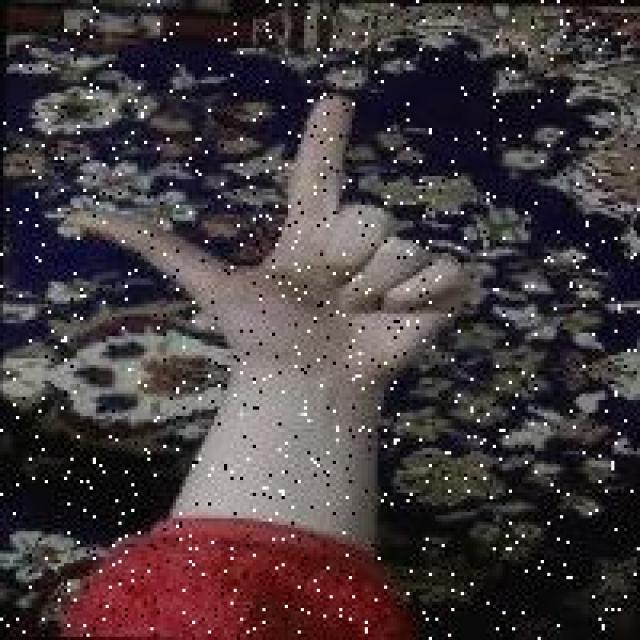L: (56, 85, 482, 376)
